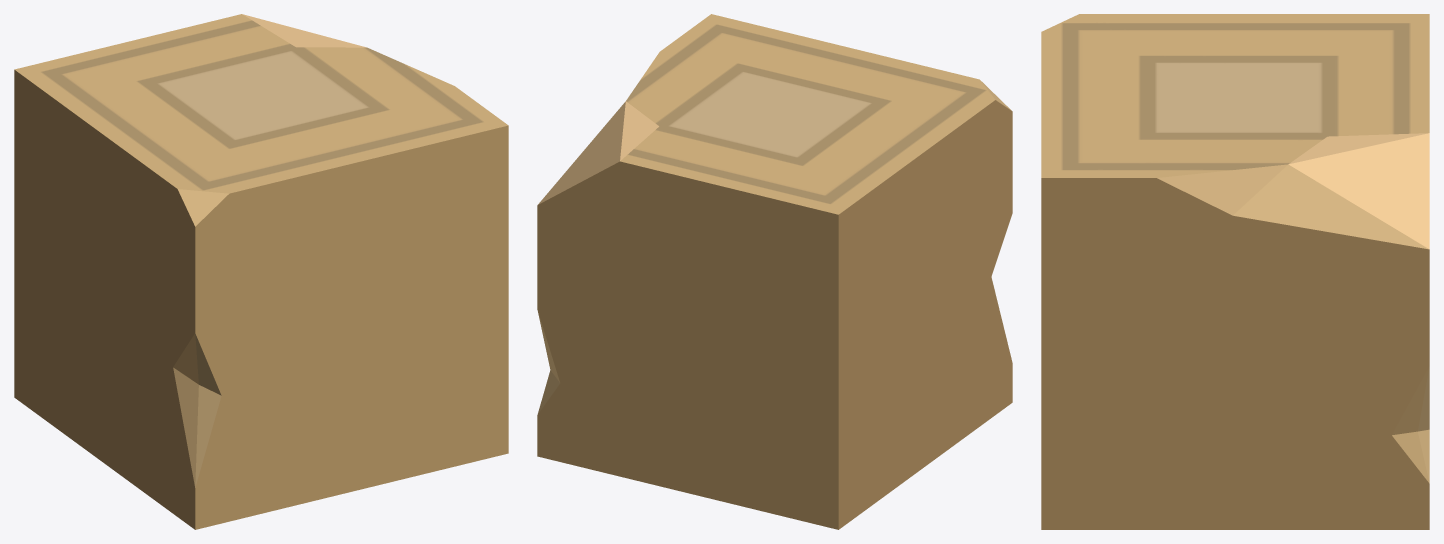
Rendered from ST_Env_Block_06.fbx.
The picture shows the model from 3 angles, left to right: view 1: azimuth 30°, elevation 25°; view 2: azimuth 150°, elevation 25°; view 3: azimuth 270°, elevation 25°; orthographic projection. The views are drawn at different scales.
Parts seen in each view (by area): view 1: ST_Env_Block_06; view 2: ST_Env_Block_06; view 3: ST_Env_Block_06.
Part boxes in pixels (x1,y1,x2,y2): ST_Env_Block_06: (14, 14, 508, 529); ST_Env_Block_06: (537, 14, 1012, 529); ST_Env_Block_06: (1041, 14, 1429, 529).
Size of the model in its own units: 5 by 5 by 5.
